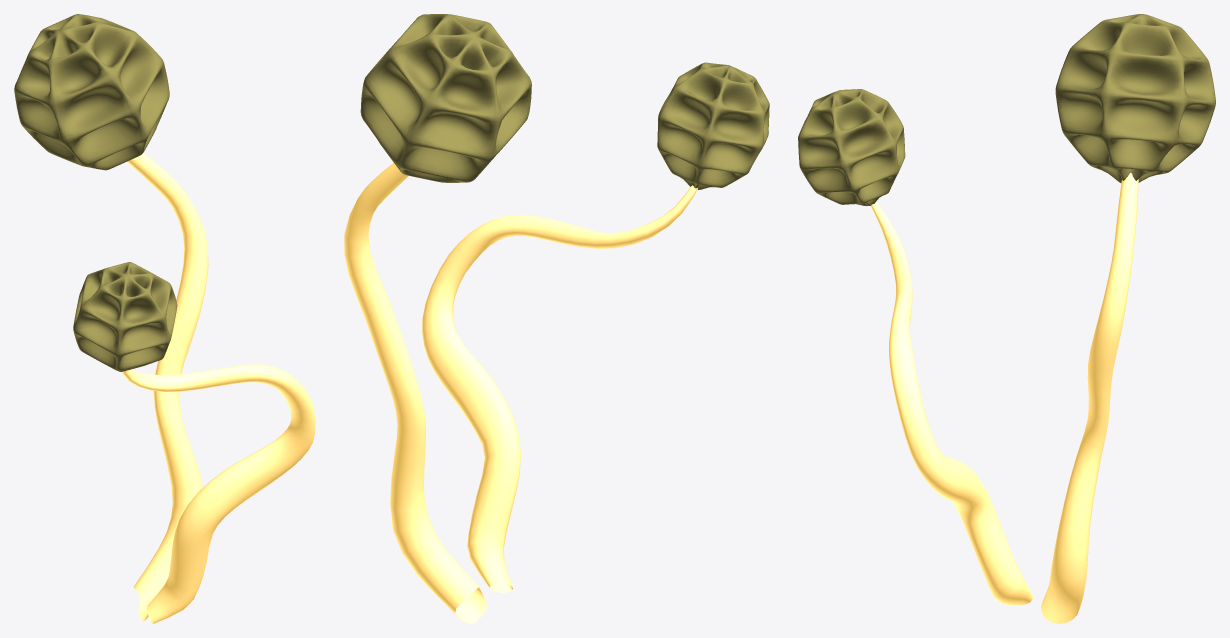
Rendered from Plant_03 1.fbx.
The picture shows the model from 3 angles, left to right: view 1: azimuth 30°, elevation 25°; view 2: azimuth 150°, elevation 25°; view 3: azimuth 270°, elevation 25°; orthographic projection. The views are drawn at different scales.
Visible parts, largest first — view 1: BezierCurve.002; view 2: BezierCurve.002; view 3: BezierCurve.002.
Boxes of the visible parts, left/top/right/bottom form: BezierCurve.002: left=14, top=14, right=315, bottom=623; BezierCurve.002: left=344, top=14, right=769, bottom=623; BezierCurve.002: left=798, top=14, right=1215, bottom=623.
Size of the model in its own units: 445 by 903 by 574.
